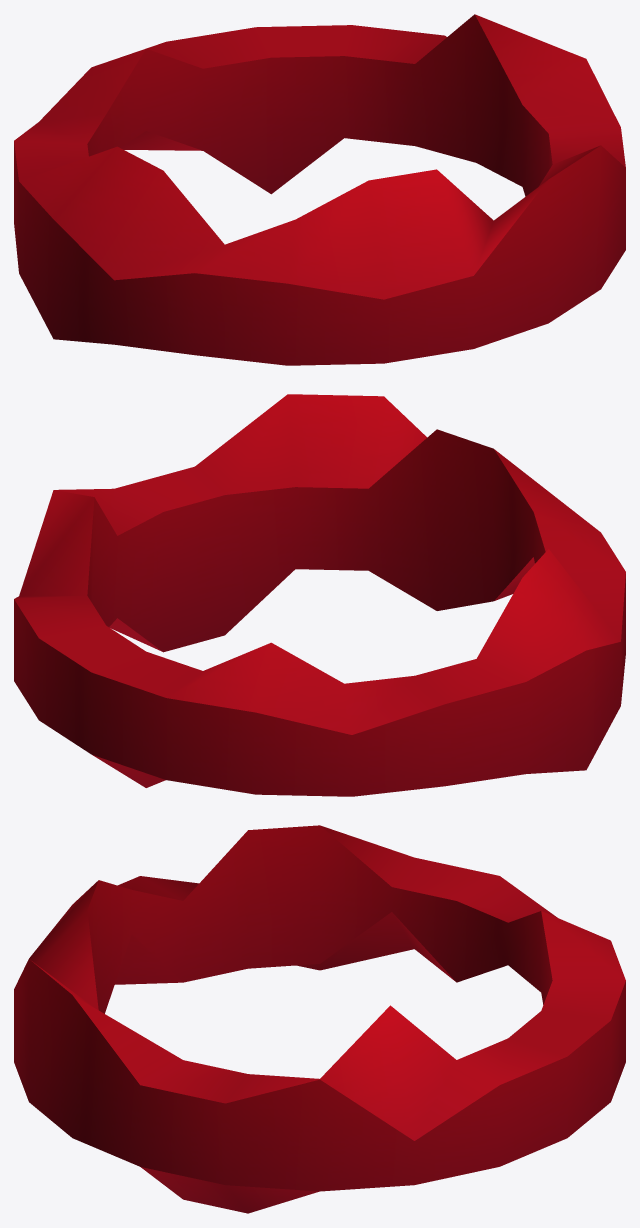
File: mug_broke2.fbx
3 views of the same model, one above another, from view 1: azimuth 30°, elevation 25°; view 2: azimuth 150°, elevation 25°; view 3: azimuth 270°, elevation 25° (orthographic).
Parts seen in each view (by area): view 1: MugMiddle; view 2: MugMiddle; view 3: MugMiddle.
Boxes of the visible parts, box(x1,y1,x2,y2) form: MugMiddle: box(14, 14, 625, 365); MugMiddle: box(14, 394, 625, 796); MugMiddle: box(14, 825, 625, 1213).
Size of the model in its own units: 1.67 by 0.6308 by 1.67.
1 material, 1 textured.
